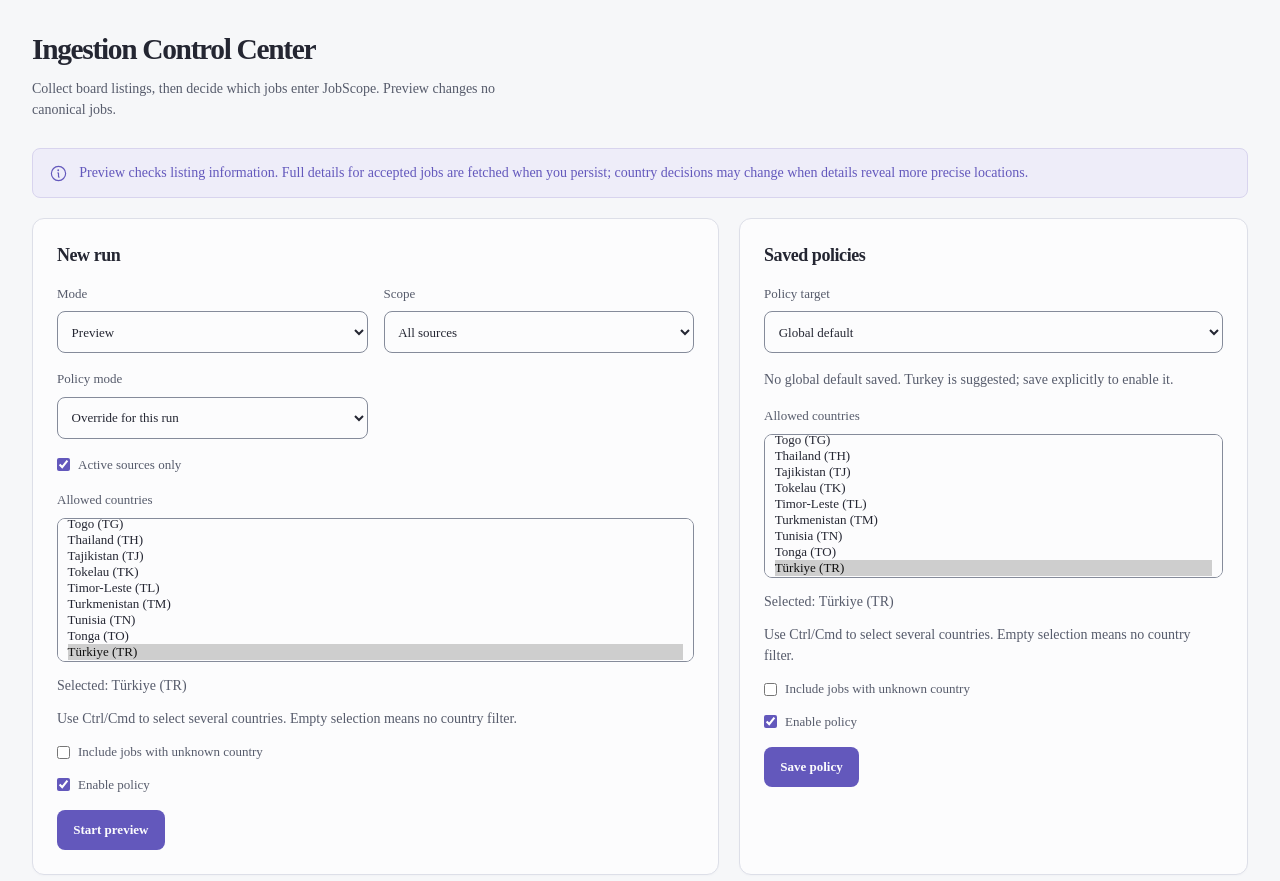
Test case: Ingestion control center › saves authoritative global policy and source override, then removes override
(page scrolled)
Check: the text "No global default saved" is shown, box [764,372,1174,387]
Click the button "Save policy": (812, 767) [764,747,859,787]
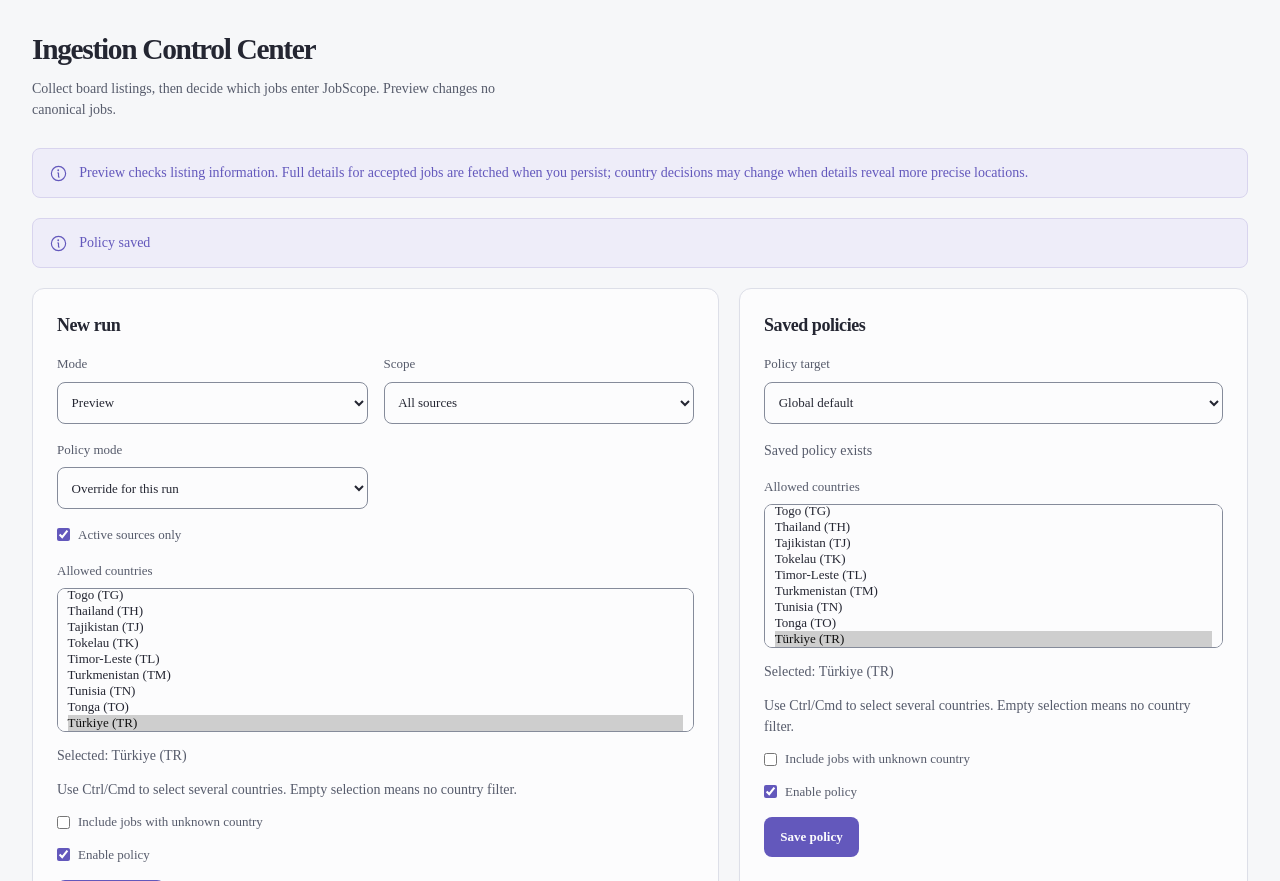
Check: the text "Policy saved" is shown, box [79,232,150,253]
Select "Board" in the dropdown labelled "Policy target": (994, 403) [764,382,1223,424]
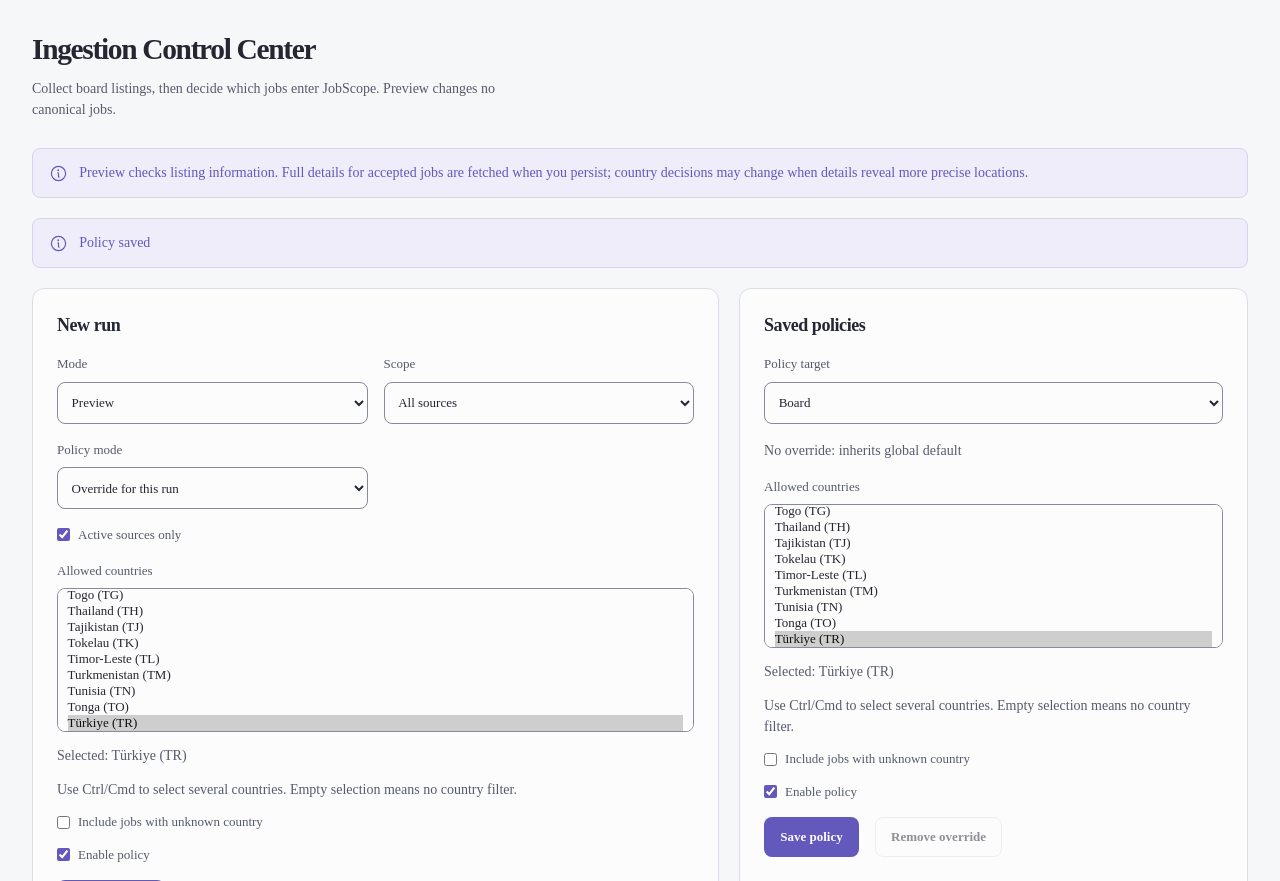
Check: the text "No override: inherits global default" is shown, box [764,443,962,458]
Click the button "Save policy": (812, 837) [764,817,859,857]
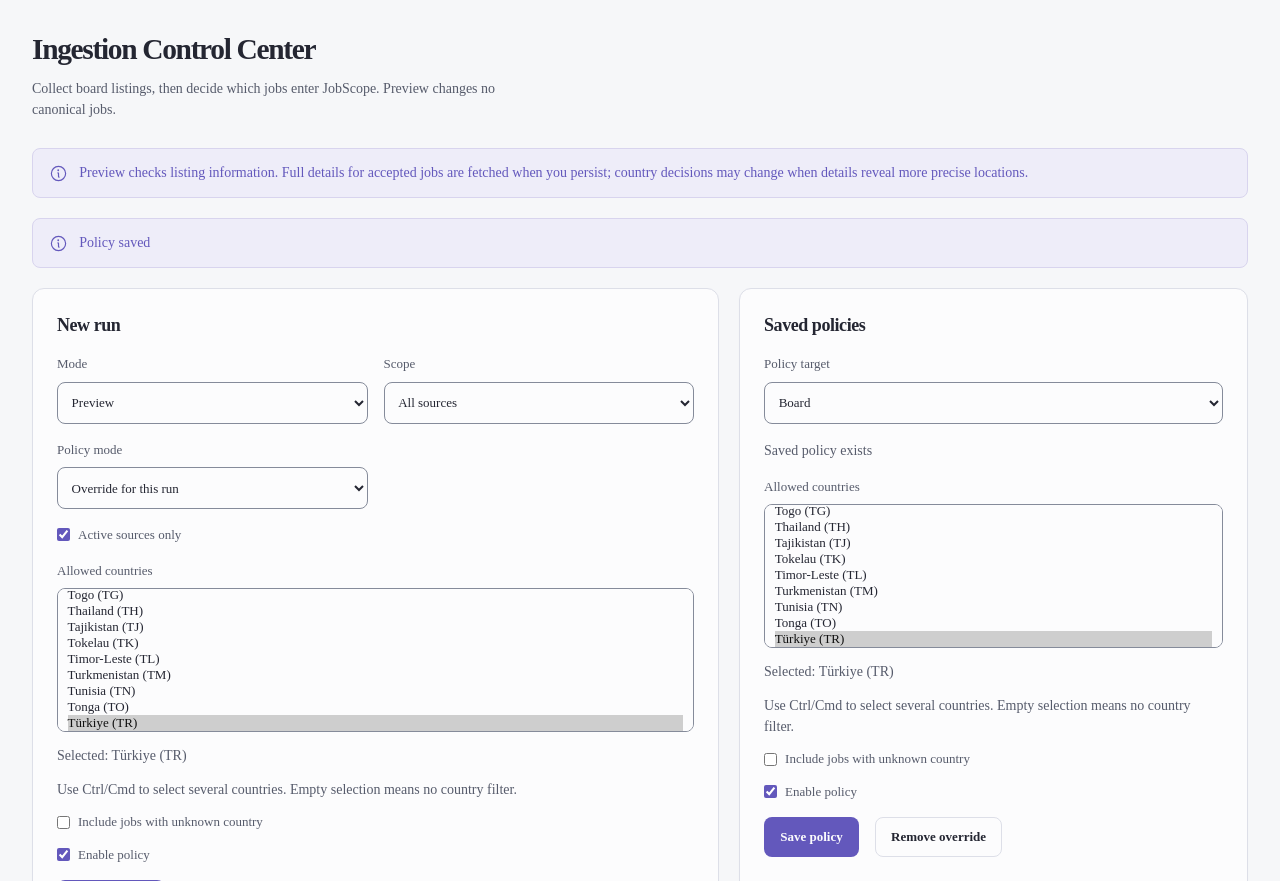
Check: the button "Remove override" is enabled
Click the button "Remove override": (939, 837) [875,817,1002,857]
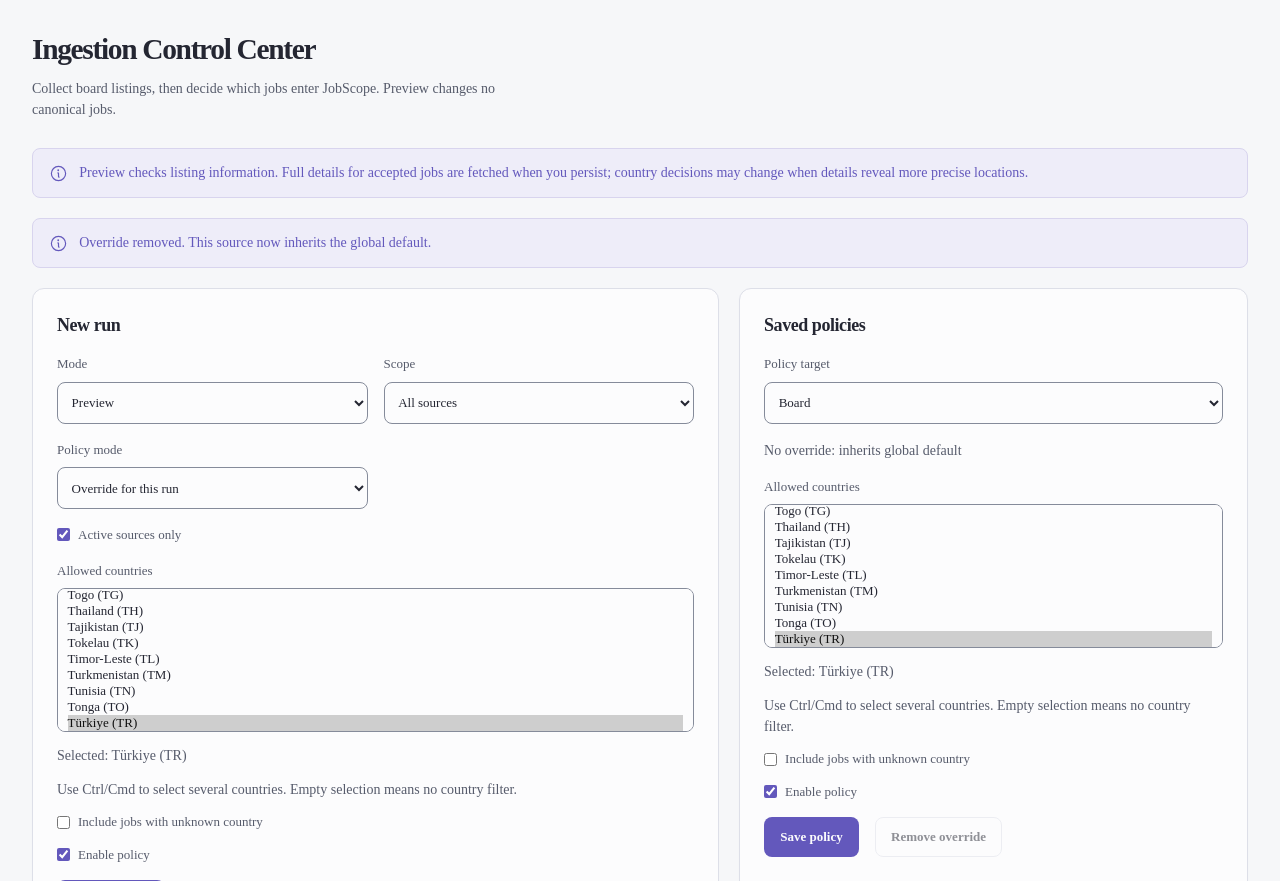
Check: the text "Override removed" is shown, box [79,235,431,250]
